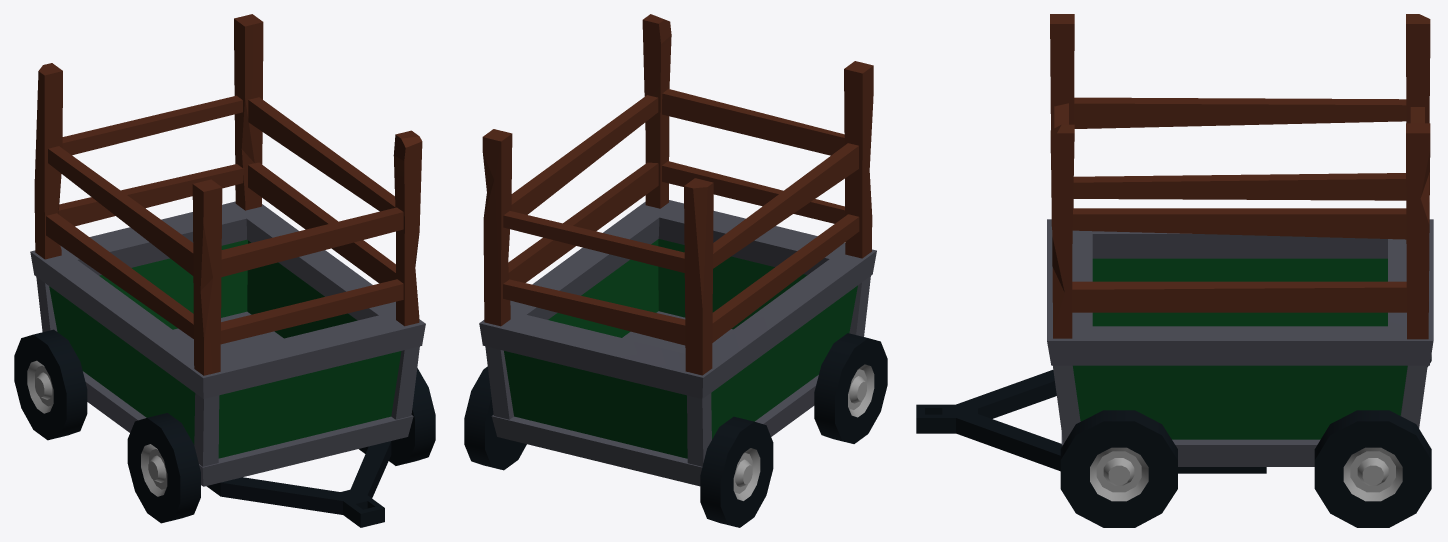
The model's file is Trailer_3_1.fbx.
3 renders of one model, left to right at view 1: azimuth 30°, elevation 25°; view 2: azimuth 150°, elevation 25°; view 3: azimuth 270°, elevation 25°, orthographic. The views are drawn at different scales.
Parts seen in each view (by area): view 1: Trailer_3_1; view 2: Trailer_3_1; view 3: Trailer_3_1.
Boxes of the visible parts, left/top/right/bottom form: Trailer_3_1: left=14, top=14, right=435, bottom=527; Trailer_3_1: left=464, top=14, right=887, bottom=527; Trailer_3_1: left=916, top=14, right=1433, bottom=527.
Size of the model in its own units: 61.67 by 78.8 by 95.93.
